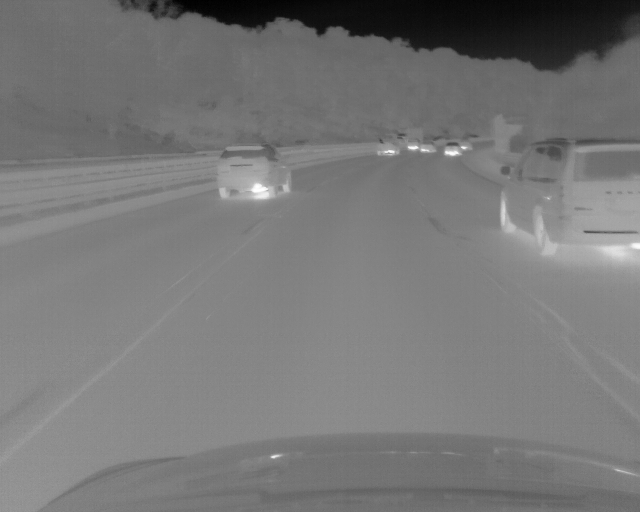car: (500, 137, 640, 256), (217, 144, 292, 199), (376, 135, 399, 156), (444, 142, 461, 156), (420, 141, 436, 154), (408, 140, 420, 150), (295, 139, 312, 146), (460, 142, 474, 150)
